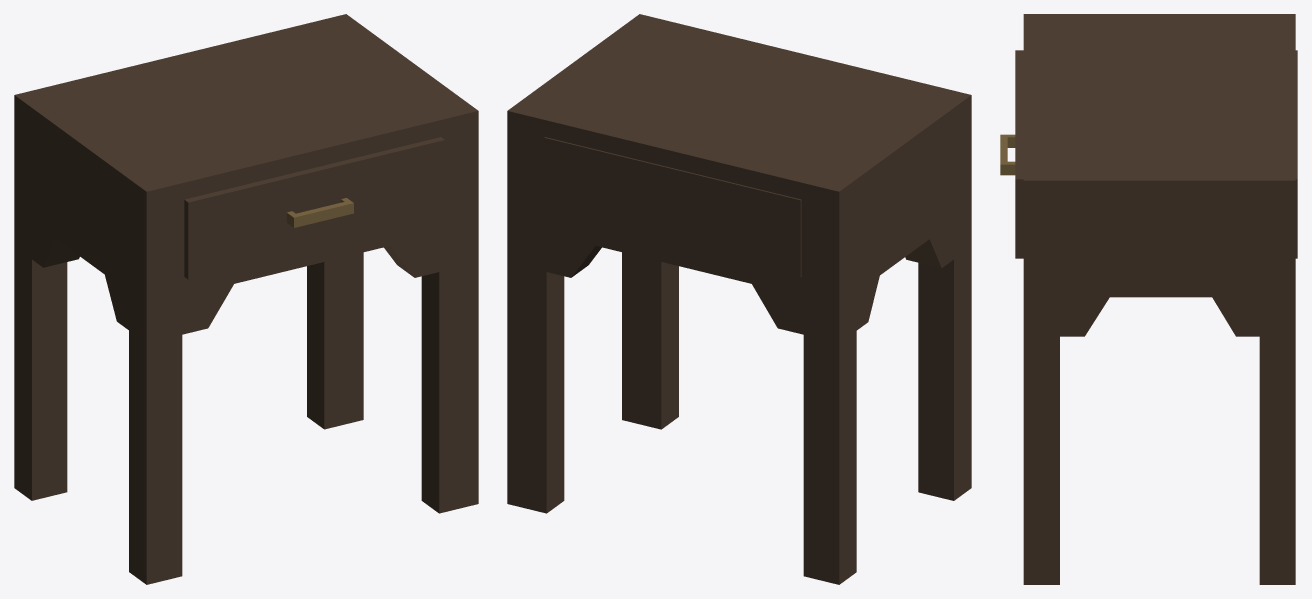
The model's file is meja kecil.fbx.
3 renders of one model, left to right at view 1: azimuth 30°, elevation 25°; view 2: azimuth 150°, elevation 25°; view 3: azimuth 270°, elevation 25°, orthographic. The views are drawn at different scales.
Visible parts, largest first — view 1: Cube, Cube.001, Cube.002; view 2: Cube, Cube.001; view 3: Cube, Cube.001, Cube.002.
Part boxes in pixels (<box>): Cube: <box>14,14,478,584</box>; Cube.001: <box>184,137,444,279</box>; Cube.002: <box>286,198,353,227</box>; Cube: <box>507,14,971,584</box>; Cube.001: <box>544,137,801,277</box>; Cube: <box>1023,14,1295,584</box>; Cube.001: <box>1015,50,1297,258</box>; Cube.002: <box>1000,134,1015,175</box>.
Size of the model in its own units: 290 by 328 by 218.
Materials: 3 (3 with a texture image).
